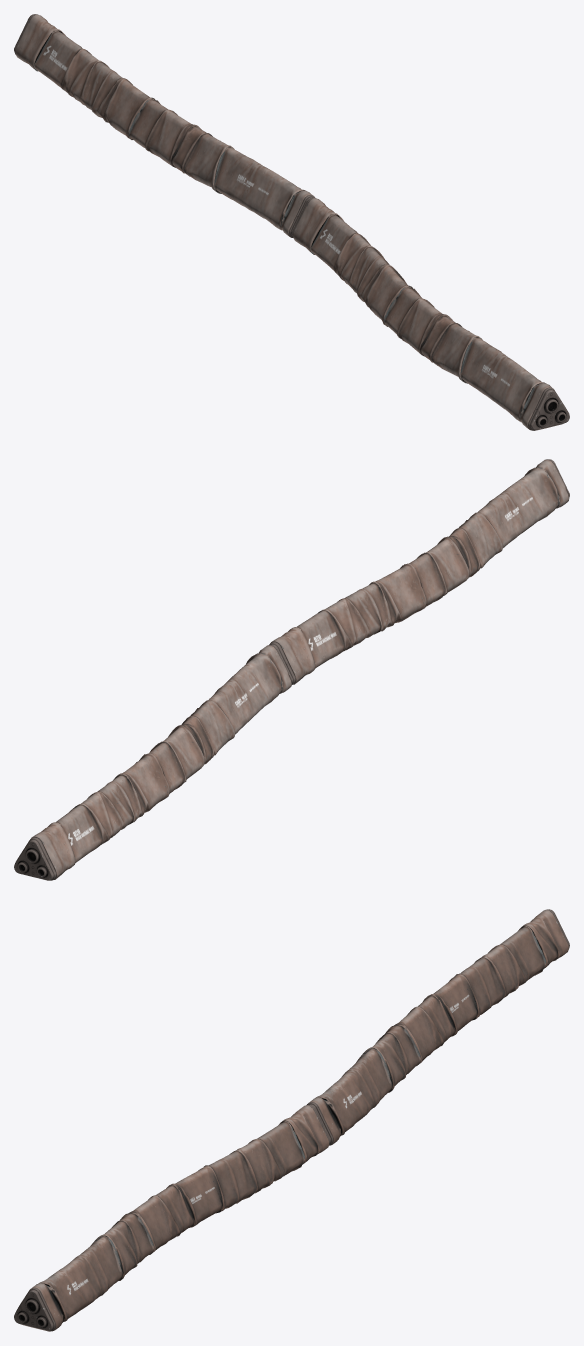
File: SM_Wire01_LineStyle02.fbx
3 renders of one model, top to bottom at view 1: azimuth 30°, elevation 25°; view 2: azimuth 150°, elevation 25°; view 3: azimuth 330°, elevation 25°, orthographic.
Visible parts, largest first — view 1: SM_Wire01_LineStyle02_LOD0; view 2: SM_Wire01_LineStyle02_LOD0; view 3: SM_Wire01_LineStyle02_LOD0.
Boxes of the visible parts, <box> form: SM_Wire01_LineStyle02_LOD0: <box>14,14,569,430</box>; SM_Wire01_LineStyle02_LOD0: <box>14,459,569,880</box>; SM_Wire01_LineStyle02_LOD0: <box>14,909,569,1331</box>.
Size of the model in its own units: 29.01 by 407 by 20.22.
Materials: 1 (1 with a texture image).
